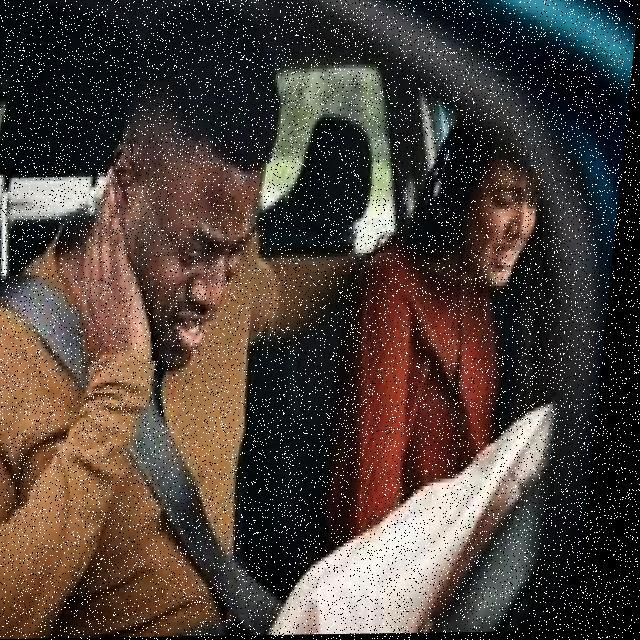noSeatbelt: (338, 264, 526, 531)
seatbelt: (0, 256, 268, 640)
